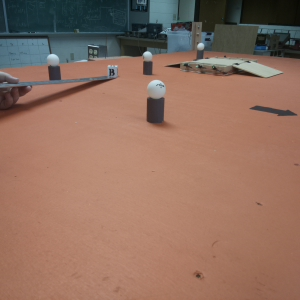blockB: (107, 66, 118, 77)
corner: (189, 19, 204, 43)
obstacle: (146, 79, 167, 125), (46, 54, 62, 79), (142, 50, 154, 74), (195, 42, 204, 58)
side: (180, 61, 229, 76)
slope: (231, 60, 283, 78)
start: (247, 102, 299, 123)
